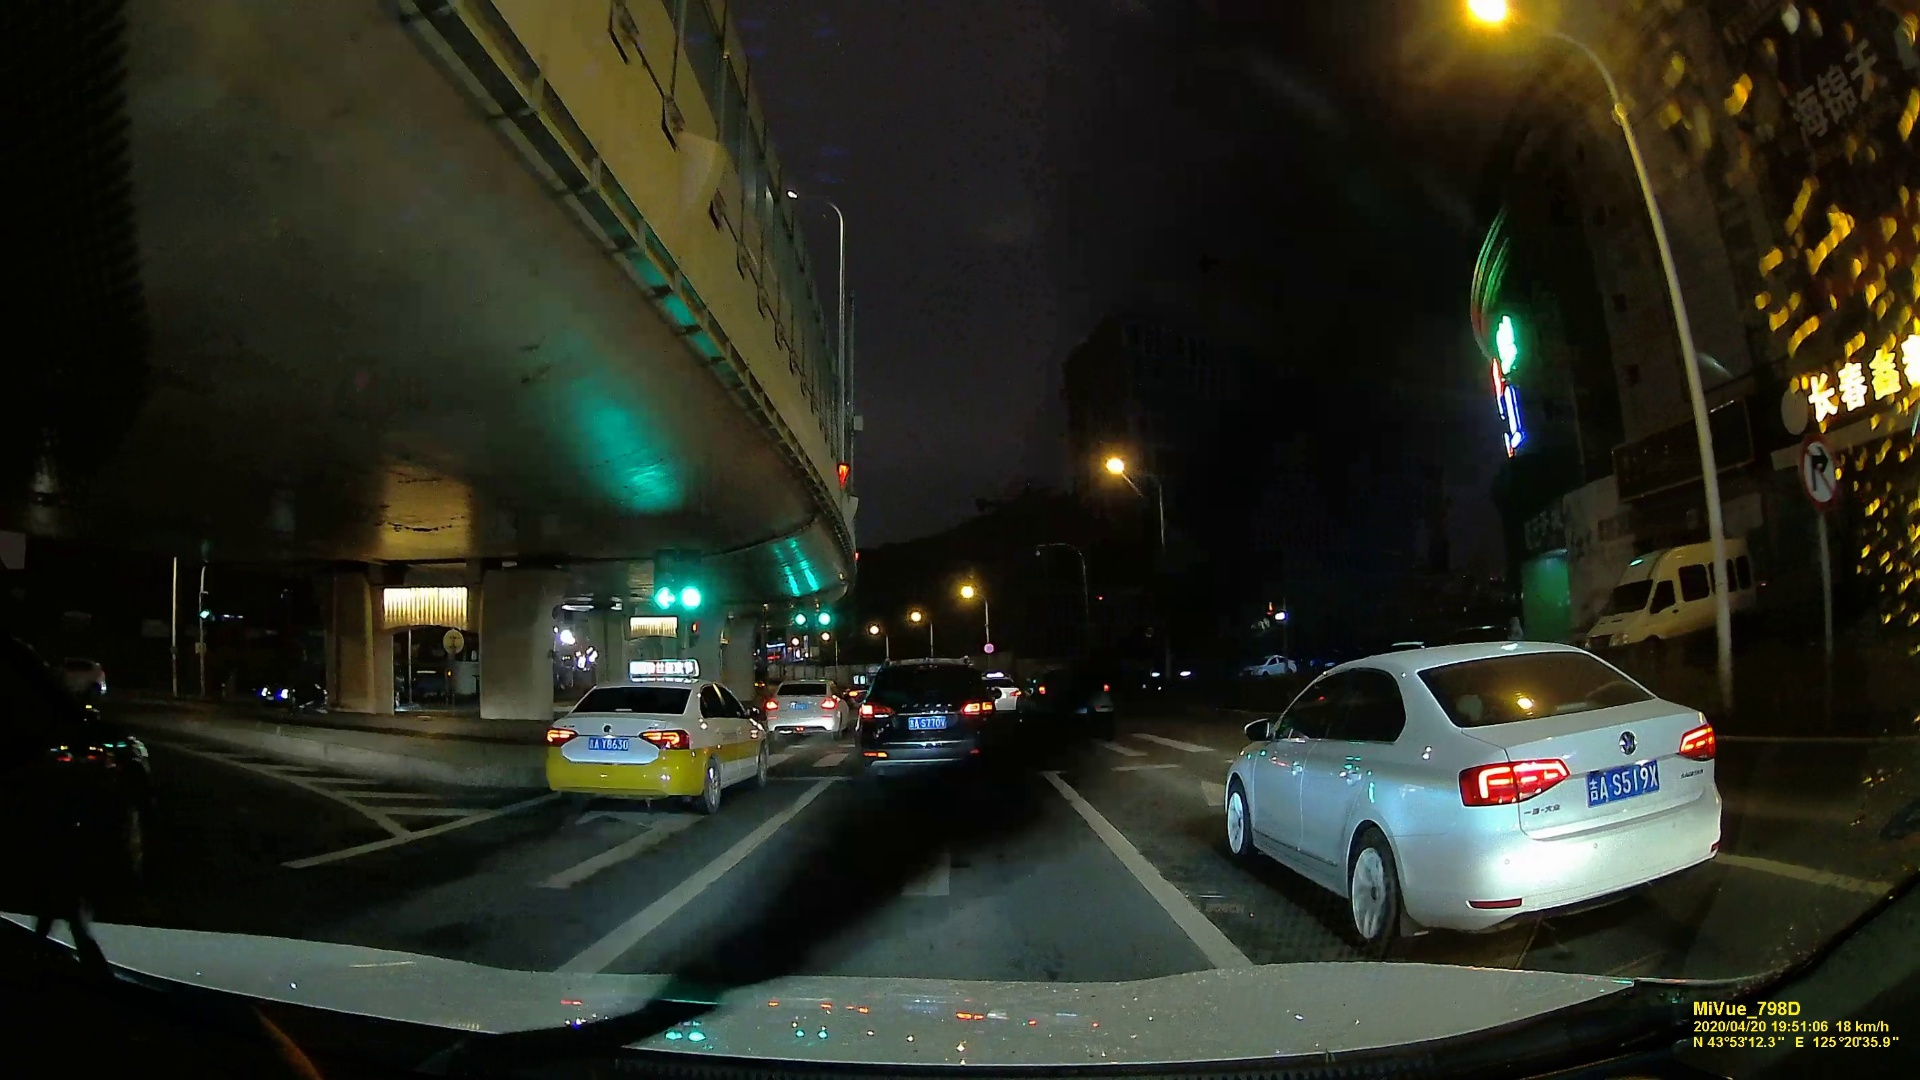traffic_sign: (651, 549, 676, 609), (679, 549, 704, 608), (793, 611, 808, 636), (818, 609, 831, 634)
vehicle: (1212, 641, 1718, 949), (535, 674, 764, 814), (848, 655, 1000, 774), (767, 679, 847, 740), (1240, 651, 1295, 676)
